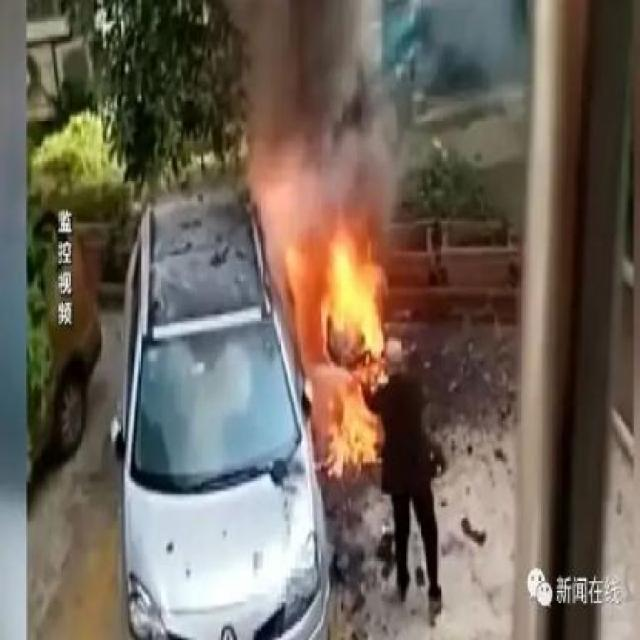Fire: (322, 226, 384, 363), (329, 376, 378, 472)
Smoke: (264, 83, 396, 252)
